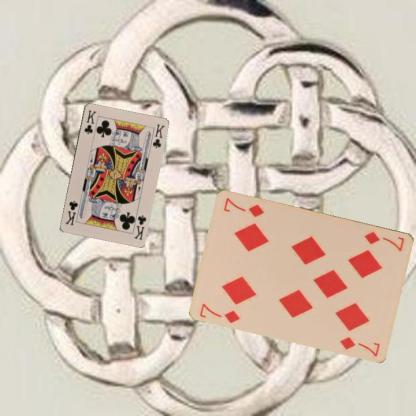7d: (362, 228, 406, 253), (197, 300, 242, 324)
Kc: (131, 212, 147, 241), (82, 108, 98, 135)
